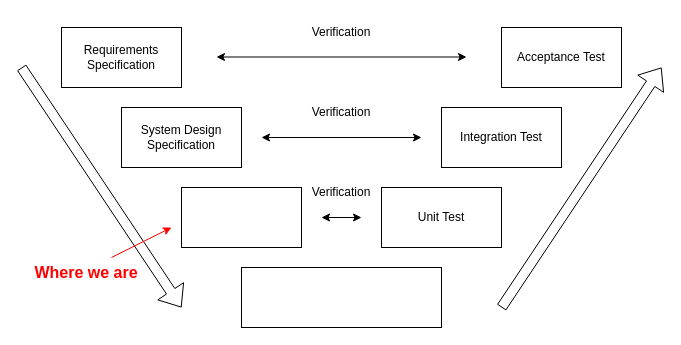
Image size: 681x345. Some labels were removed from this diagram. The centre of each missing label's shape, as x and y in pixels:
"Detailed Design Specification" goes at point 241,217.
"Implementation" goes at point 341,297.
